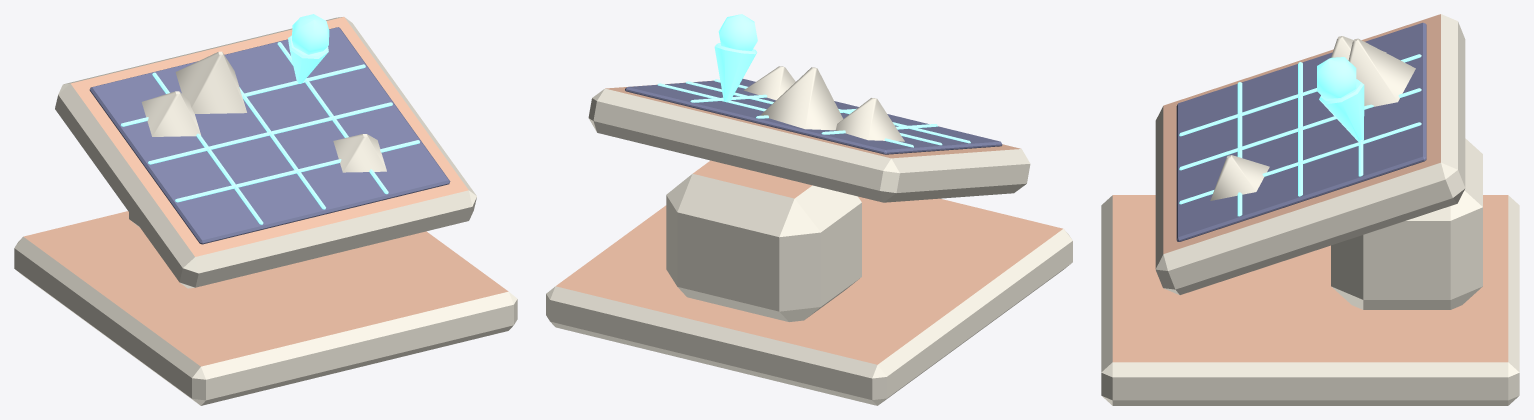
The model's file is R4X_Minimap_LOD1.fbx.
3 renders of one model, left to right at view 1: azimuth 30°, elevation 25°; view 2: azimuth 150°, elevation 25°; view 3: azimuth 270°, elevation 25°, orthographic. The views are drawn at different scales.
Parts seen in each view (by area): view 1: R4X_Minimap_LOD1; view 2: R4X_Minimap_LOD1; view 3: R4X_Minimap_LOD1.
Boxes of the visible parts, x1=… form: R4X_Minimap_LOD1: x1=14, y1=14, x2=517, y2=405; R4X_Minimap_LOD1: x1=546, y1=14, x2=1072, y2=405; R4X_Minimap_LOD1: x1=1101, y1=14, x2=1519, y2=405.
Bounding box in the file's own units: 0.52 × 0.403 × 0.52.
